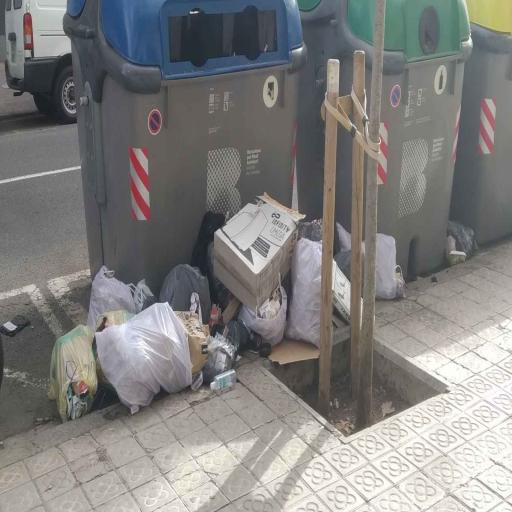Basura_fuera: (48, 0, 320, 421), (378, 283, 403, 298)
